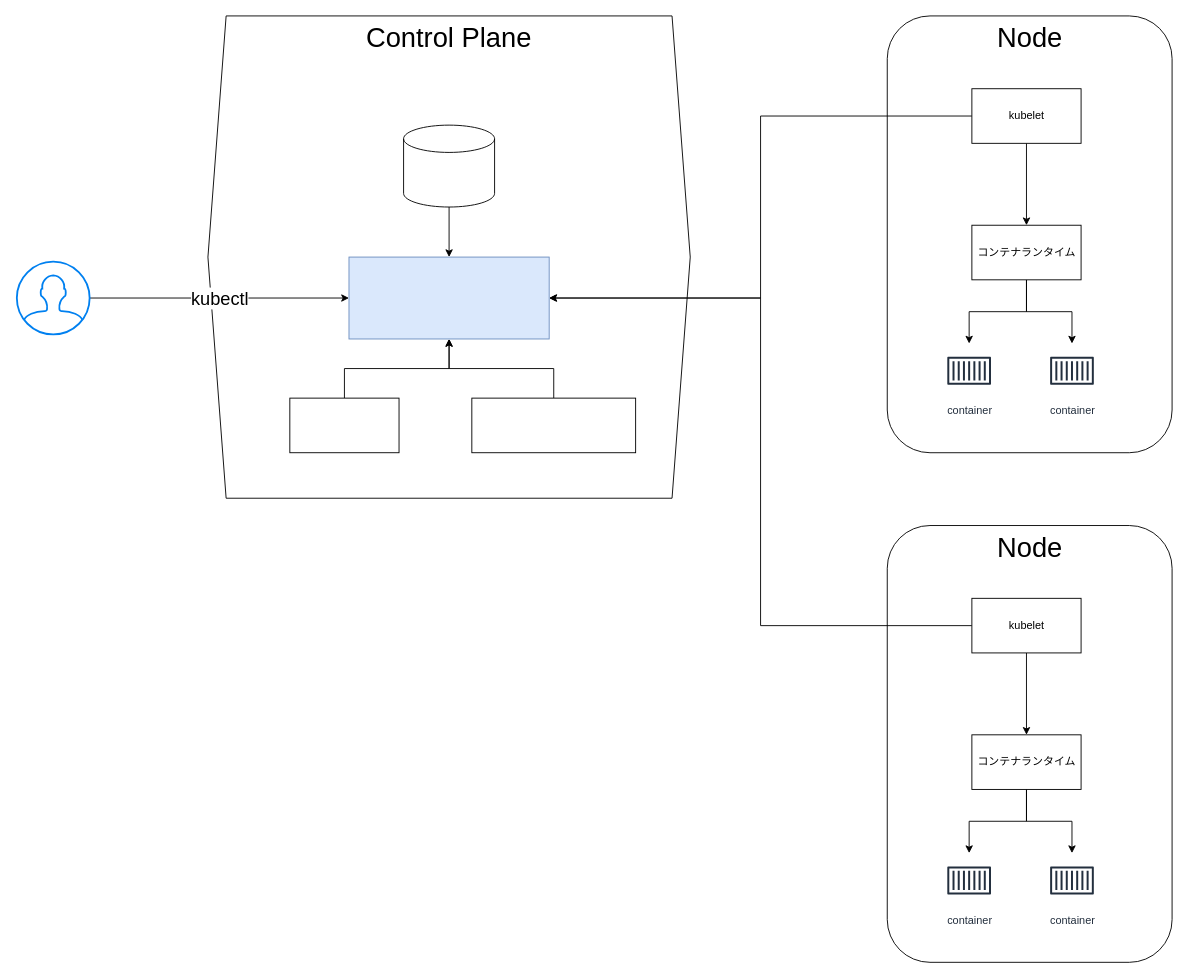
Image size: 1188x978. Some labels were removed from this diagram. The centre of each missing label's shape, as x and y in pixels:
etcd: the point at 449,165
kube-apiserver: the point at 448,297
kube-controller-manager: the point at 553,425
kube-scheduler: the point at 344,425
